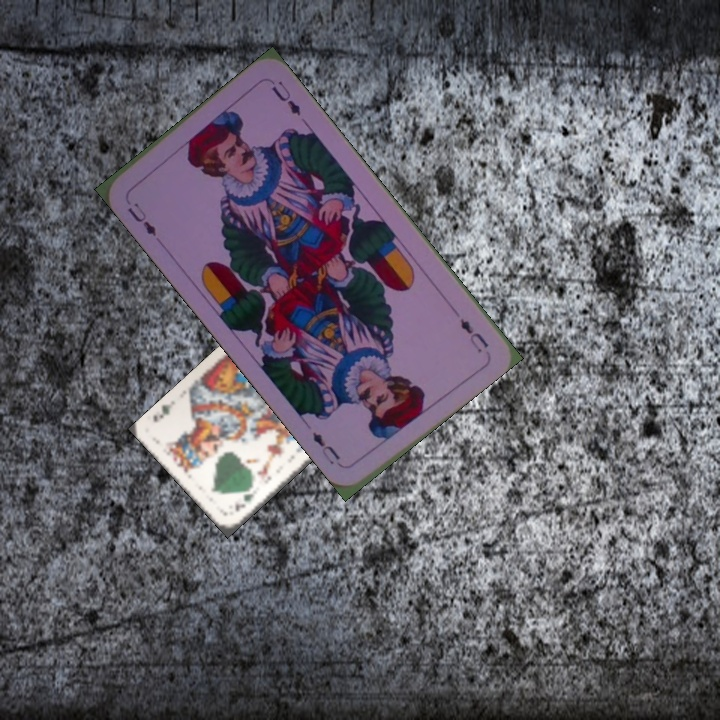EU: (124, 198, 160, 239), (456, 314, 492, 355)
GK: (231, 487, 260, 514)
